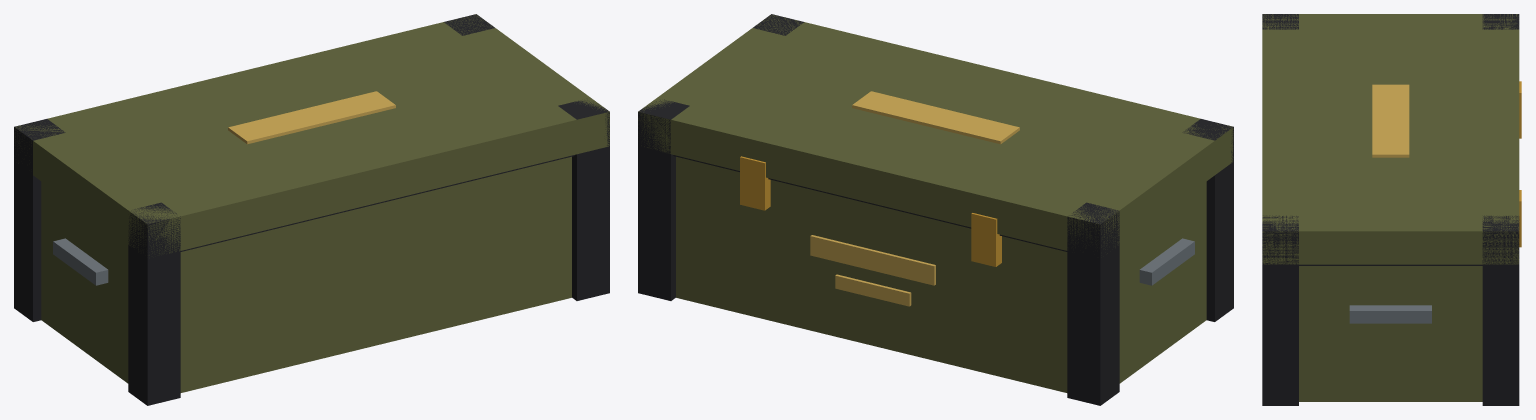
File: army_crate.glb
3 views of the same model, side by side, from view 1: azimuth 30°, elevation 25°; view 2: azimuth 150°, elevation 25°; view 3: azimuth 270°, elevation 25° (orthographic). The views are drawn at different scales.
Visible parts, largest first — view 1: army_crate; view 2: army_crate; view 3: army_crate.
Boxes of the visible parts, box(x1,y1,x2,y2) form: army_crate: box(14, 14, 609, 405); army_crate: box(638, 14, 1233, 405); army_crate: box(1262, 14, 1521, 405).
Size of what is drawn, in the model's own units: 1.15 by 0.427 by 0.565.
Materials: 2 (2 with a texture image).
